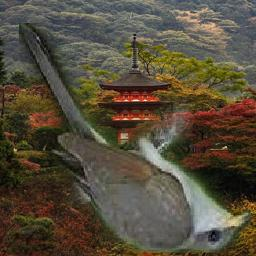Cuckoo: (19, 23, 251, 253)
